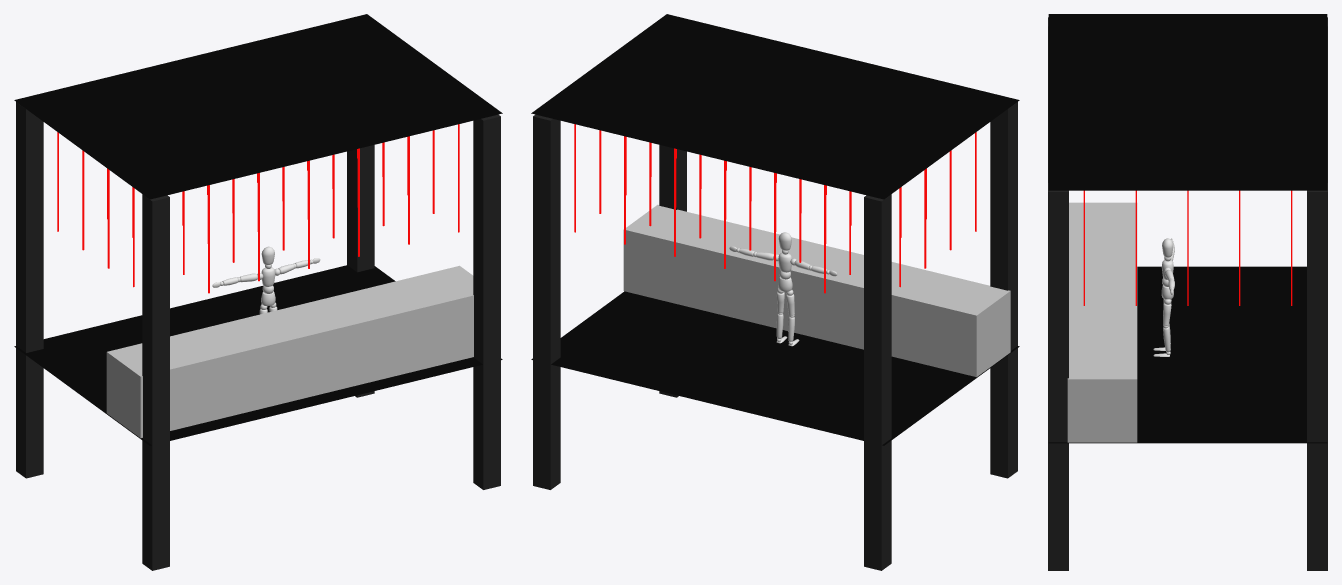
Rendered from STAAAGGe01.fbx.
3 renders of one model, left to right at view 1: azimuth 30°, elevation 25°; view 2: azimuth 150°, elevation 25°; view 3: azimuth 270°, elevation 25°, orthographic. The views are drawn at different scales.
Parts seen in each view (by area): view 1: Stage, truss, DJbooth; view 2: Stage, truss, DJbooth; view 3: Stage, DJbooth, truss.
Boxes of the visible parts, left/top/right/bottom form: Stage: left=14, top=14, right=502, bottom=445; truss: left=16, top=102, right=500, bottom=570; DJbooth: left=106, top=265, right=473, bottom=438; Stage: left=531, top=14, right=1019, bottom=445; truss: left=533, top=102, right=1017, bottom=570; DJbooth: left=623, top=204, right=1010, bottom=377; Stage: left=1048, top=14, right=1327, bottom=443; DJbooth: left=1067, top=202, right=1137, bottom=442; truss: left=1048, top=17, right=1327, bottom=570.
Bounding box in the file's own units: 600 × 604 × 402.
